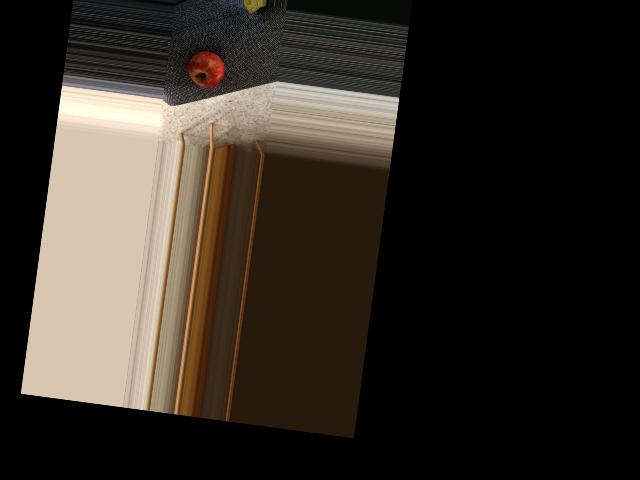apple: (182, 45, 228, 92)
